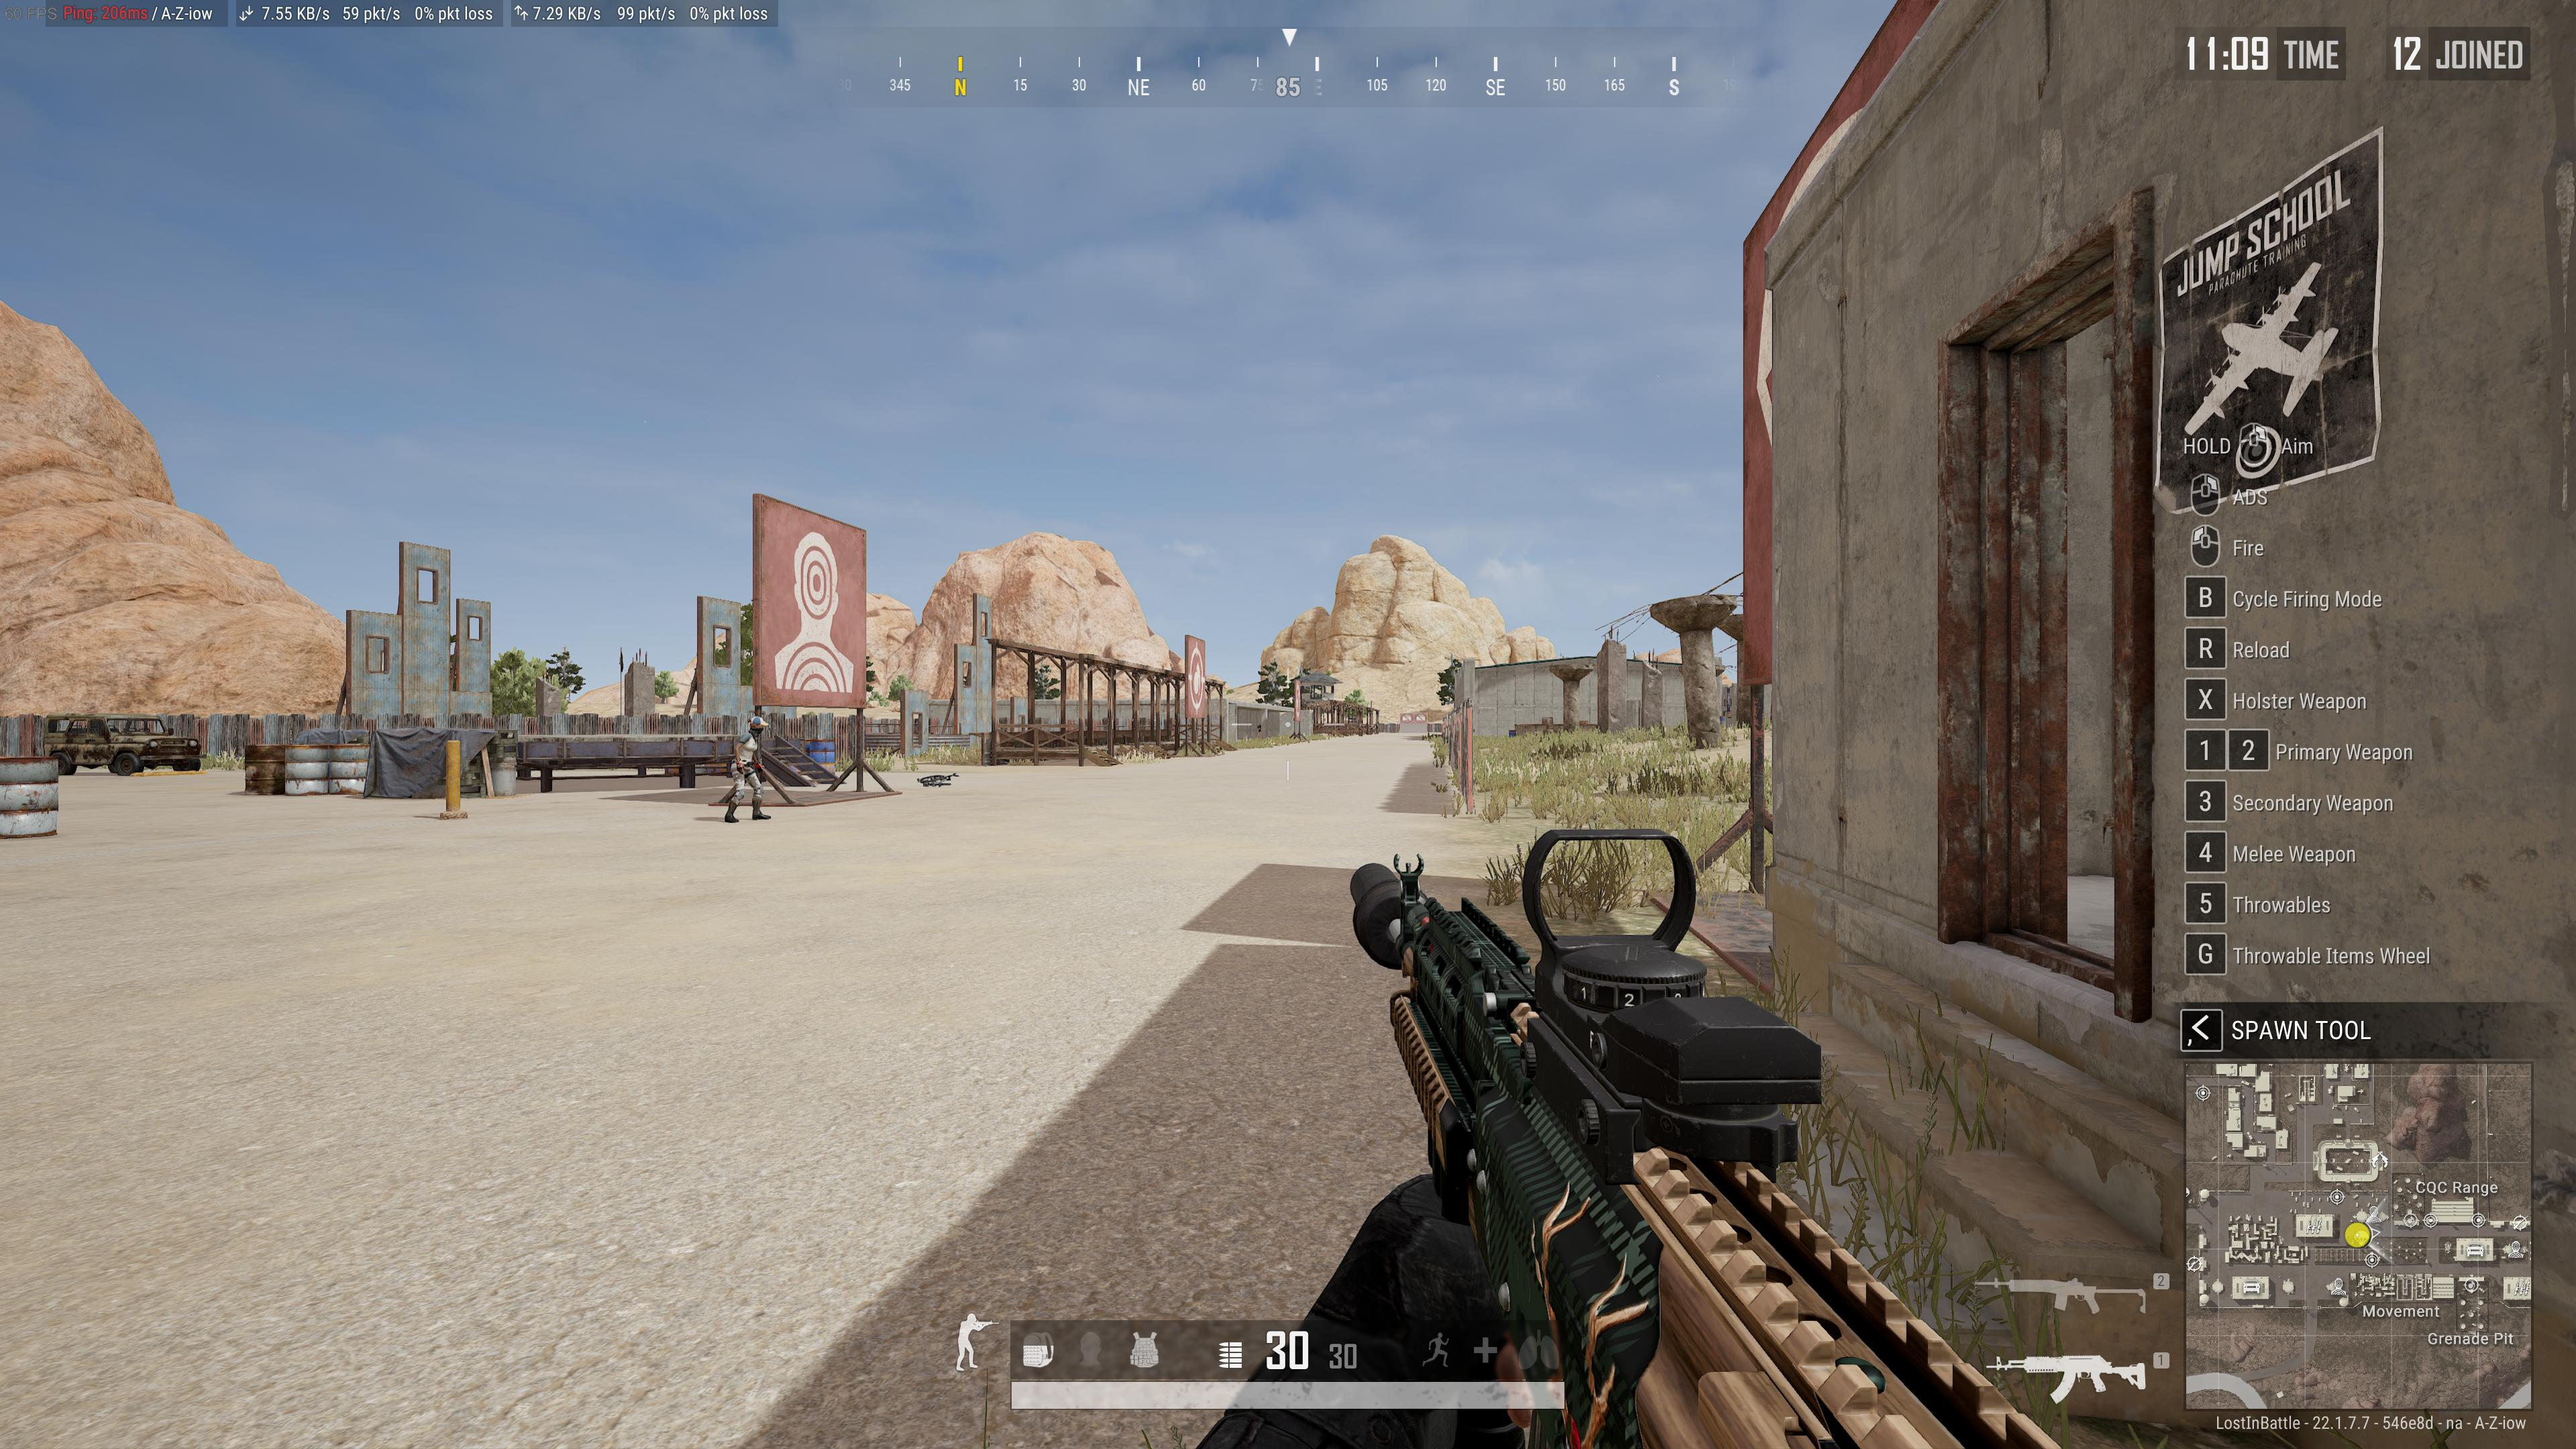enemy: (722, 713, 771, 823), (1258, 722, 1261, 740)
enemy_head: (745, 715, 770, 734)
